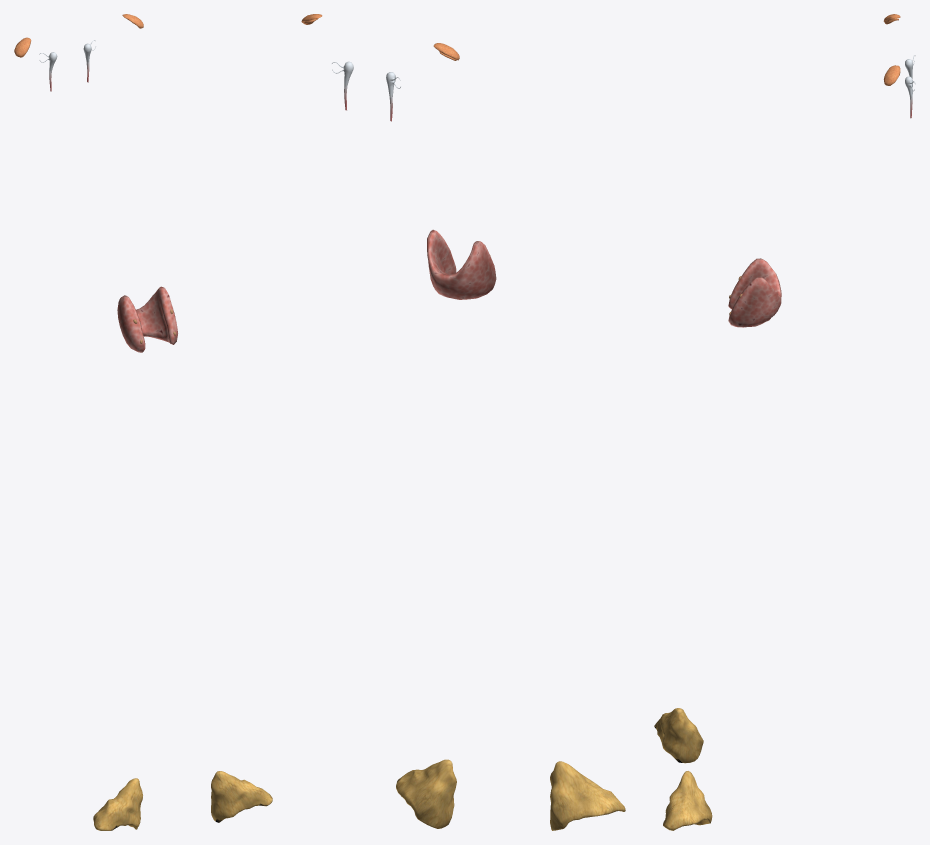
File: endocrine.glb
3 views of the same model, side by side, from view 1: azimuth 30°, elevation 25°; view 2: azimuth 150°, elevation 25°; view 3: azimuth 270°, elevation 25° (orthographic). The views are drawn at different scales.
Visible parts, largest first — view 1: Thyroid gland#~001593, Adrenal gland, R#~001591, Adrenal gland, L#~001592; view 2: Thyroid gland#~001593, Adrenal gland, L#~001592, Adrenal gland, R#~001591; view 3: Thyroid gland#~001593, Adrenal gland, R#~001591, Adrenal gland, L#~001592.
Part boxes in pixels (<box>): Thyroid gland#~001593: <box>117,286,177,352</box>; Adrenal gland, R#~001591: <box>211,771,272,822</box>; Adrenal gland, L#~001592: <box>93,778,142,830</box>; Thyroid gland#~001593: <box>427,229,496,299</box>; Adrenal gland, L#~001592: <box>550,761,625,830</box>; Adrenal gland, R#~001591: <box>396,759,456,828</box>; Thyroid gland#~001593: <box>728,258,781,327</box>; Adrenal gland, R#~001591: <box>663,771,712,830</box>; Adrenal gland, L#~001592: <box>654,708,703,763</box>.
Size of the model in its own units: 0.3263 by 1.26 by 0.3927.
4 materials, 4 textured.
